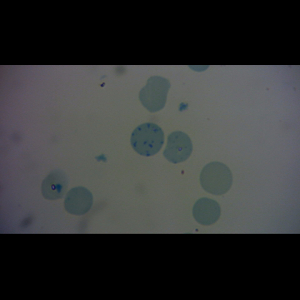aggregate reticulocyte: (129, 122, 165, 157)
erythrocyte: (198, 160, 235, 196), (138, 75, 172, 114), (161, 129, 194, 165), (39, 168, 70, 201), (191, 196, 223, 226)
punctate reticulocyte: (64, 185, 94, 216)
